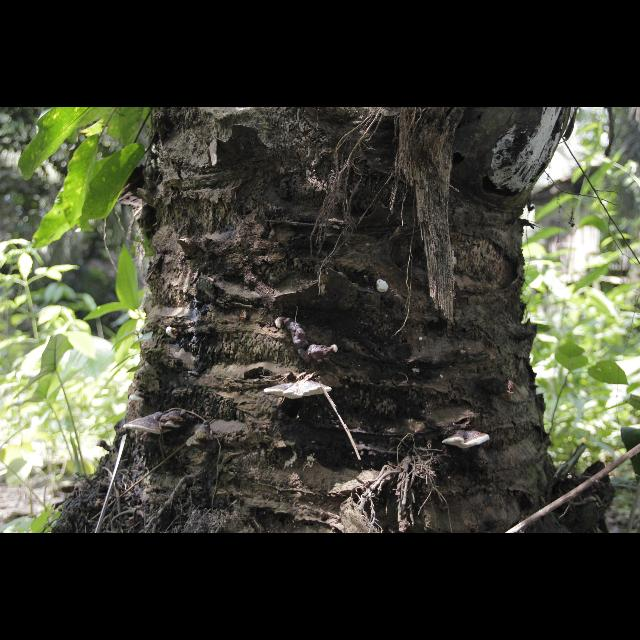ganoderma: (287, 318, 332, 364), (265, 382, 333, 401), (124, 413, 172, 436), (443, 432, 491, 451), (161, 411, 196, 429)
primordium: (377, 281, 390, 294), (167, 328, 180, 340), (276, 317, 286, 329), (97, 441, 107, 450), (333, 346, 339, 355), (419, 338, 423, 342)
